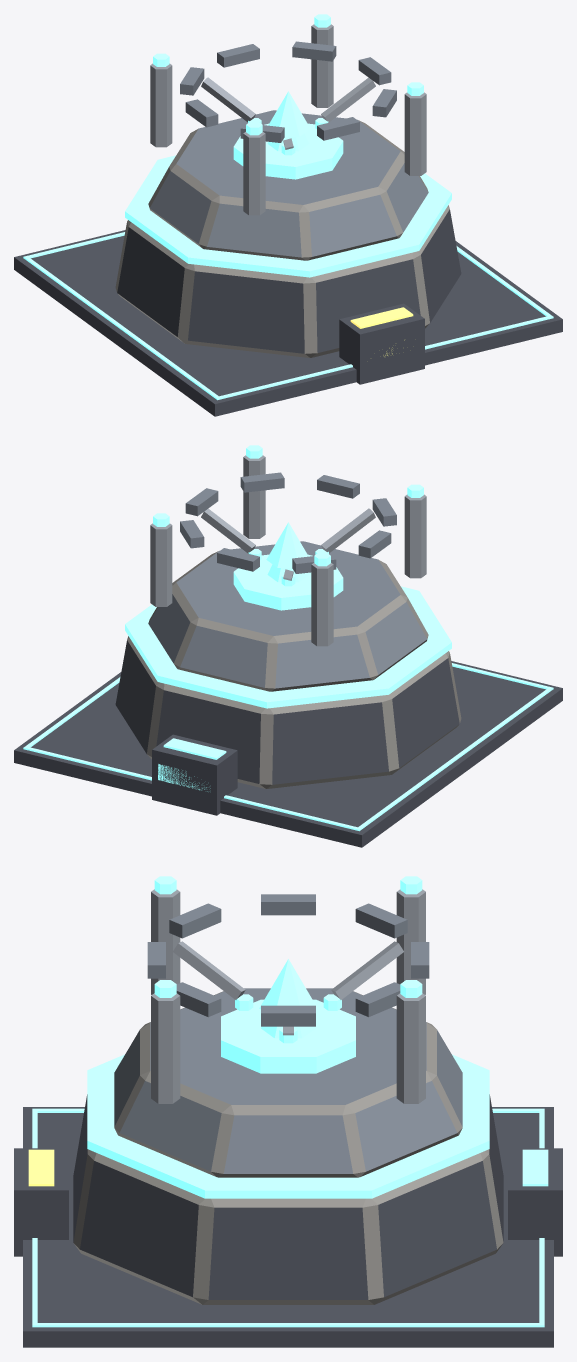
File: montadora_ht_sem_textura.glb
The picture shows the model from 3 angles, top to bottom: view 1: azimuth 30°, elevation 25°; view 2: azimuth 150°, elevation 25°; view 3: azimuth 270°, elevation 25°; orthographic projection. The views are drawn at different scales.
Parts seen in each view (by area): view 1: montadora_ht_corpo, montadora_ht_antena, montadora_ht_cristal; view 2: montadora_ht_corpo, montadora_ht_antena, montadora_ht_cristal; view 3: montadora_ht_corpo, montadora_ht_antena, montadora_ht_cristal.
Part boxes in pixels (x1=…): montadora_ht_corpo: x1=14, y1=14, x2=562, y2=416; montadora_ht_antena: x1=180, y1=41, x2=396, y2=155; montadora_ht_cristal: x1=267, y1=91, x2=310, y2=151; montadora_ht_corpo: x1=14, y1=445, x2=562, y2=847; montadora_ht_antena: x1=180, y1=472, x2=396, y2=586; montadora_ht_cristal: x1=266, y1=522, x2=309, y2=582; montadora_ht_corpo: x1=14, y1=876, x2=562, y2=1347; montadora_ht_antena: x1=147, y1=894, x2=429, y2=1043; montadora_ht_cristal: x1=259, y1=959, x2=317, y2=1038.
Size of the model in its own units: 2.9 by 1.83 by 3.
